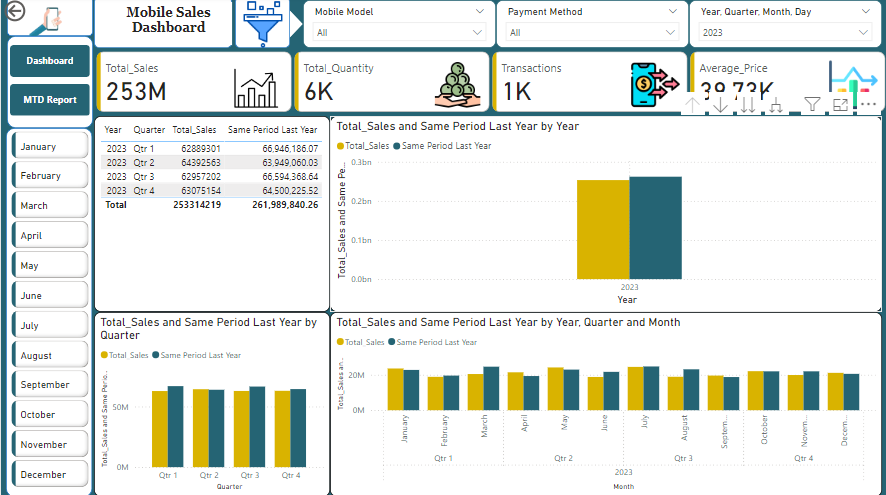

The page's visual inventory and layout, read from the dashboard file:
{"tool":"powerbi","page":{"name":"Same Period Last Year","canvas":[1280,720],"ordinal":2},"visuals":[{"type":"shape","box":[7.1,188.6,124.3,531.4],"z":0},{"type":"shape","box":[377.3,8.6,57.6,60.5],"z":1000},{"type":"shape","box":[8.6,0,123.8,56.2],"z":2000},{"type":"image","box":[36,0,69.1,69.1],"z":3000},{"type":"shape","box":[8.6,56.2,123.8,132.5],"z":4000},{"type":"cardVisual","fields":{"Data":["Mobile_Sales_Data.Total_Sales","Mobile_Sales_Data.Total_Quantity","Mobile_Sales_Data.Transactions","Mobile_Sales_Data.Average_Price"]},"box":[132.5,73.4,1147.7,97.9],"z":5000},{"type":"slicer","fields":{"Values":["Mobile_Sales_Data.Mobile Model"]},"box":[434.9,4.3,277.9,69.1],"z":6000},{"type":"slicer","fields":{"Values":["Mobile_Sales_Data.Payment Method"]},"box":[712.8,4.3,277.9,69.1],"z":7000},{"type":"slicer","fields":{"Values":["Custom_Calendar.Date.Variation.Date Hierarchy.Year","Custom_Calendar.Date.Variation.Date Hierarchy.Quarter","Custom_Calendar.Date.Variation.Date Hierarchy.Month","Custom_Calendar.Date.Variation.Date Hierarchy.Day"]},"box":[990.7,4.3,277.9,69.1],"z":8000},{"type":"shape","box":[337,0,79.2,73.4],"z":9000},{"type":"image","box":[293.8,0,167,79.2],"z":10000},{"type":"shape","box":[133.9,0,198.7,73.4],"z":11000},{"type":"textbox","box":[149.8,7.2,182.9,61.9],"z":12000},{"type":"actionButton","box":[0,0,100,40],"z":13000},{"type":"advancedSlicerVisual","fields":{"Values":["Custom_Calendar.Date.Variation.Date Hierarchy.Month"]},"box":[10,188.6,121.4,531.4],"z":14000},{"type":"tableEx","fields":{"Values":["Custom_Calendar.Date.Variation.Date Hierarchy.Year","Custom_Calendar.Date.Variation.Date Hierarchy.Quarter","Mobile_Sales_Data.Total_Sales","Mobile_Sales_Data.Same Period Last Year"]},"box":[133.9,171.4,339.8,282.2],"z":15000},{"type":"clusteredColumnChart","fields":{"Category":["Custom_Calendar.Date.Variation.Date Hierarchy.Year","Custom_Calendar.Date.Variation.Date Hierarchy.Quarter"],"Y":["Mobile_Sales_Data.Total_Sales","Mobile_Sales_Data.Same Period Last Year"]},"box":[473.8,171.4,794.9,282.2],"z":16000},{"type":"clusteredColumnChart","fields":{"Y":["Mobile_Sales_Data.Total_Sales","Mobile_Sales_Data.Same Period Last Year"],"Category":["Custom_Calendar.Date.Variation.Date Hierarchy.Year","Custom_Calendar.Date.Variation.Date Hierarchy.Quarter","Custom_Calendar.Date.Variation.Date Hierarchy.Month","Custom_Calendar.Date.Variation.Date Hierarchy.Day"]},"box":[473.8,453.6,794.9,266.4],"z":17000},{"type":"clusteredColumnChart","fields":{"Category":["Custom_Calendar.Date.Variation.Date Hierarchy.Quarter"],"Y":["Mobile_Sales_Data.Total_Sales","Mobile_Sales_Data.Same Period Last Year"]},"box":[133.9,453.6,339.8,266.4],"z":18000},{"type":"pageNavigator","box":[13,69.1,115.2,102.2],"z":19000}]}

Visuals, with their boxes on the page's 1280x720 design canvas (x1, y1, x2, y2). These are canvas units, not pixel positions in the 886x495 screenshot, which may show the page scaled, cropped or inside an application window:
shape: box(7, 189, 131, 720)
shape: box(377, 9, 435, 69)
shape: box(9, 0, 132, 56)
image: box(36, 0, 105, 69)
shape: box(9, 56, 132, 189)
cardVisual - Mobile_Sales_Data.Total_Sales x Mobile_Sales_Data.Total_Quantity: box(132, 73, 1280, 171)
slicer - Mobile_Sales_Data.Mobile Model: box(435, 4, 713, 73)
slicer - Mobile_Sales_Data.Payment Method: box(713, 4, 991, 73)
slicer - Custom_Calendar.Date.Variation.Date Hierarchy.Year x Custom_Calendar.Date.Variation.Date Hierarchy.Quarter: box(991, 4, 1269, 73)
shape: box(337, 0, 416, 73)
image: box(294, 0, 461, 79)
shape: box(134, 0, 333, 73)
textbox: box(150, 7, 333, 69)
actionButton: box(0, 0, 100, 40)
advancedSlicerVisual - Custom_Calendar.Date.Variation.Date Hierarchy.Month: box(10, 189, 131, 720)
tableEx - Custom_Calendar.Date.Variation.Date Hierarchy.Year x Custom_Calendar.Date.Variation.Date Hierarchy.Quarter: box(134, 171, 474, 454)
clusteredColumnChart - Custom_Calendar.Date.Variation.Date Hierarchy.Year x Custom_Calendar.Date.Variation.Date Hierarchy.Quarter: box(474, 171, 1269, 454)
clusteredColumnChart - Mobile_Sales_Data.Total_Sales x Mobile_Sales_Data.Same Period Last Year: box(474, 454, 1269, 720)
clusteredColumnChart - Custom_Calendar.Date.Variation.Date Hierarchy.Quarter x Mobile_Sales_Data.Total_Sales: box(134, 454, 474, 720)
pageNavigator: box(13, 69, 128, 171)
